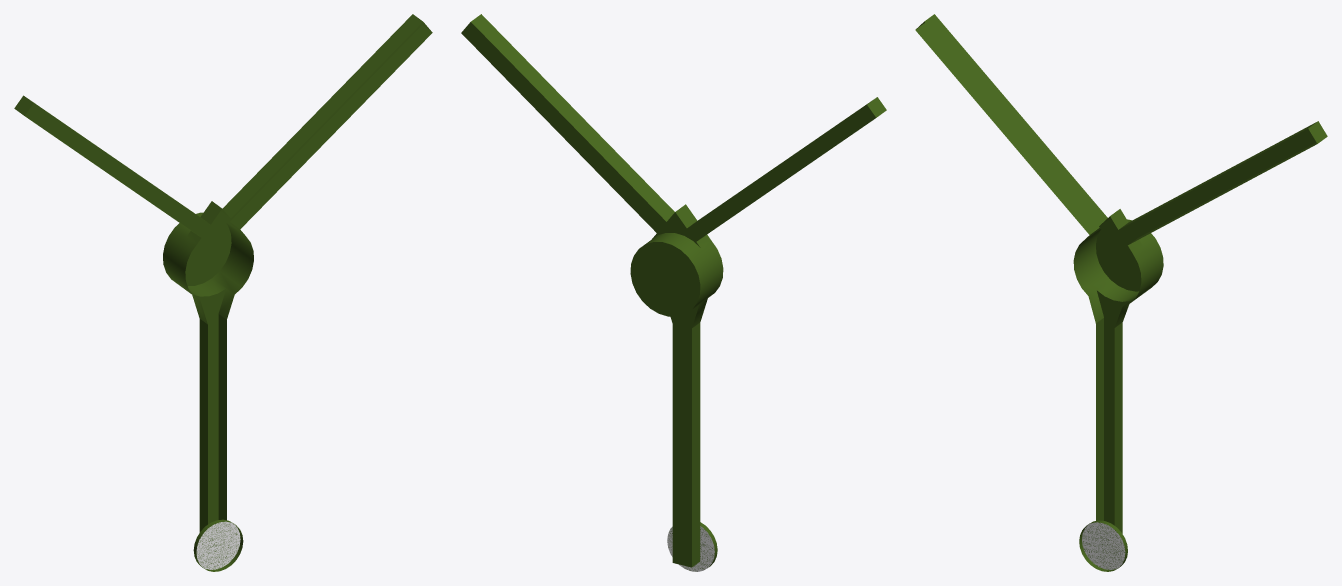
The model's file is FlakStand.dae.
3 views of the same model, side by side, from view 1: azimuth 30°, elevation 25°; view 2: azimuth 150°, elevation 25°; view 3: azimuth 330°, elevation 25° (orthographic). The views are drawn at different scales.
Parts seen in each view (by area): view 1: stand (×2); view 2: stand (×2); view 3: stand (×2).
Part boxes in pixels (box(x1,y1,x2,y2)): stand (×2): box(14, 14, 432, 571); stand (×2): box(461, 14, 886, 571); stand (×2): box(915, 14, 1327, 571).
Size of the model in its own units: 68.99 by 7.4 by 82.54.
